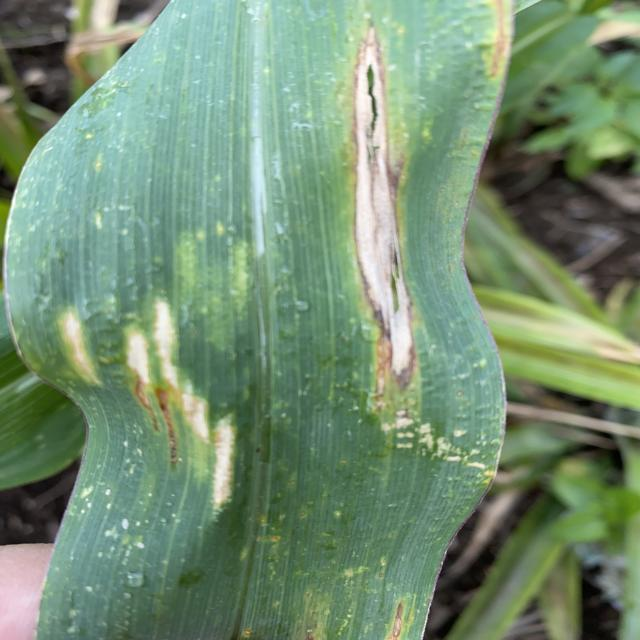Corn_Leaf_Blight: (15, 0, 508, 640)
